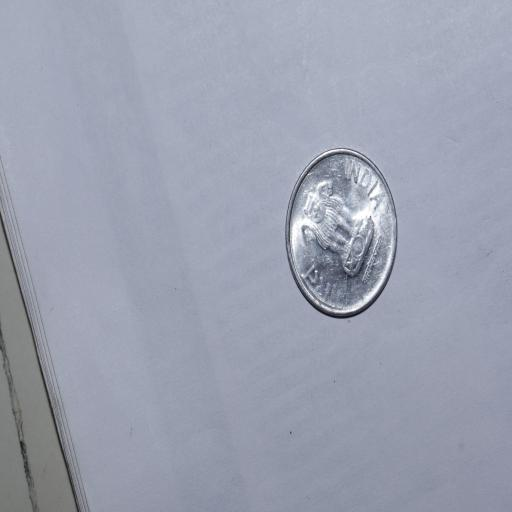rupee2: (284, 147, 399, 319)
